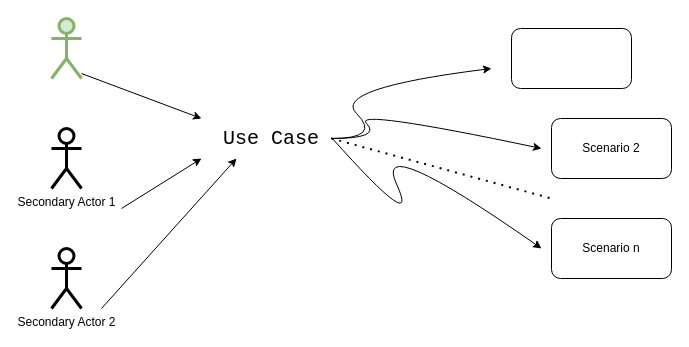
The diagram is 689 pixels wide and 347 high, and some of its shapes have lost their labels. The centre of each missing label's shape, as x and y in pixels:
Primary Actor: the point at 66,48
Scenario 1: the point at 571,58
